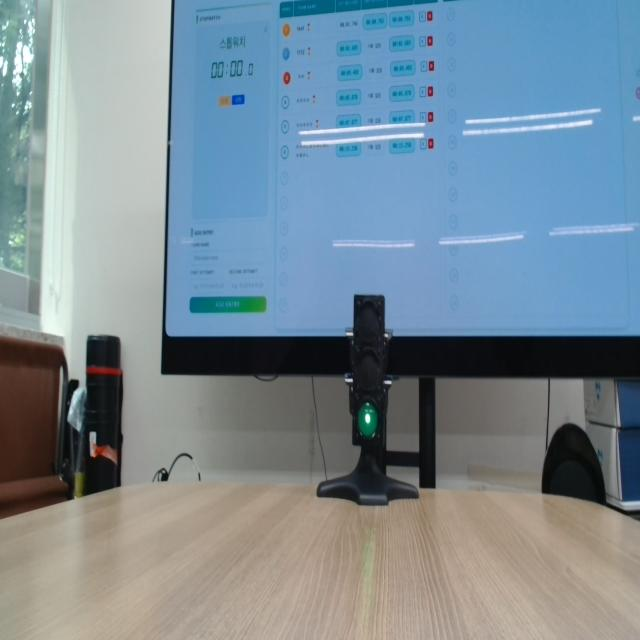green_light: (358, 402, 378, 439)
